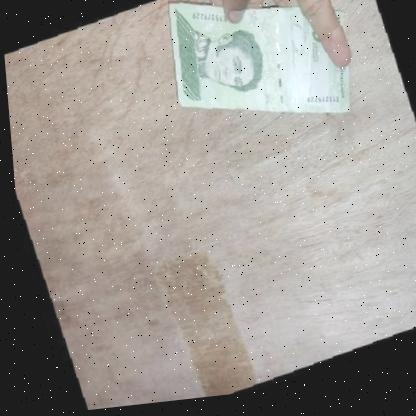fifty-front-vef: (148, 0, 369, 165)
